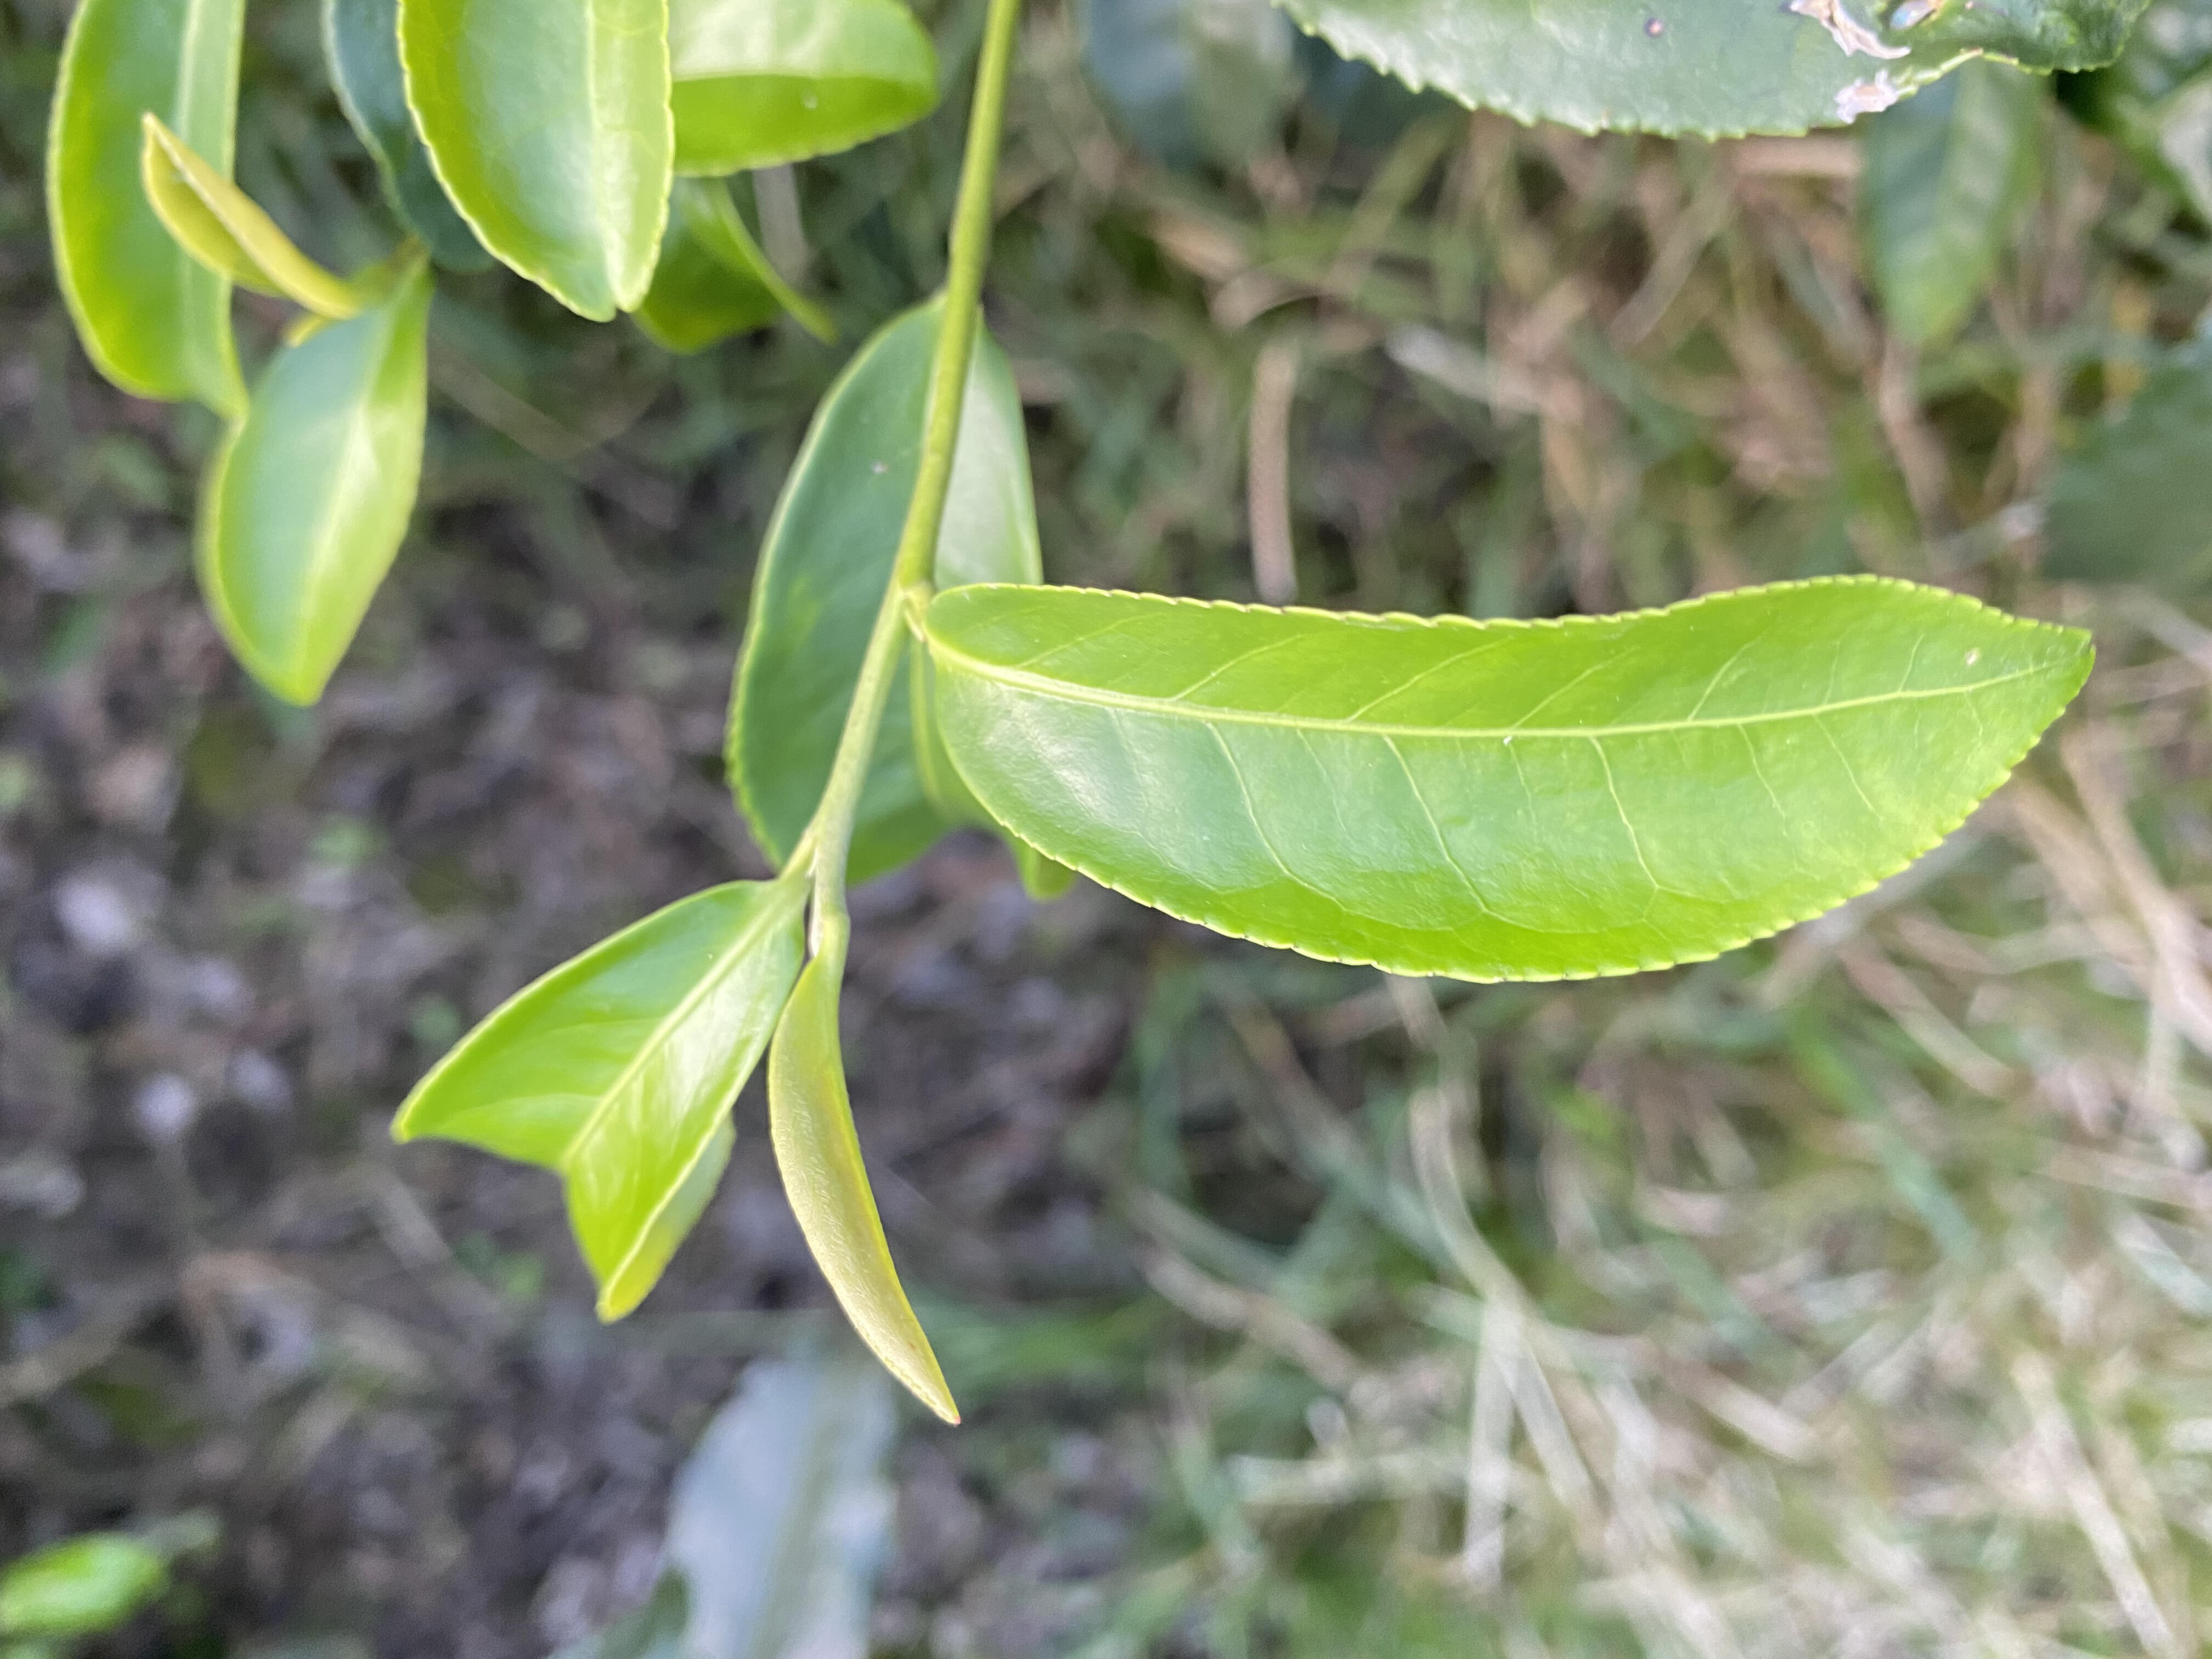healthy: (913, 570, 2095, 985), (723, 298, 1043, 897), (195, 244, 437, 709), (752, 951, 961, 1419)
